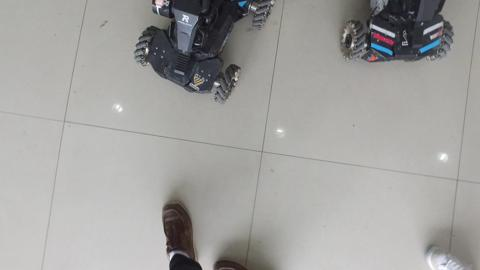chariot: (122, 1, 280, 117), (332, 1, 459, 77)
